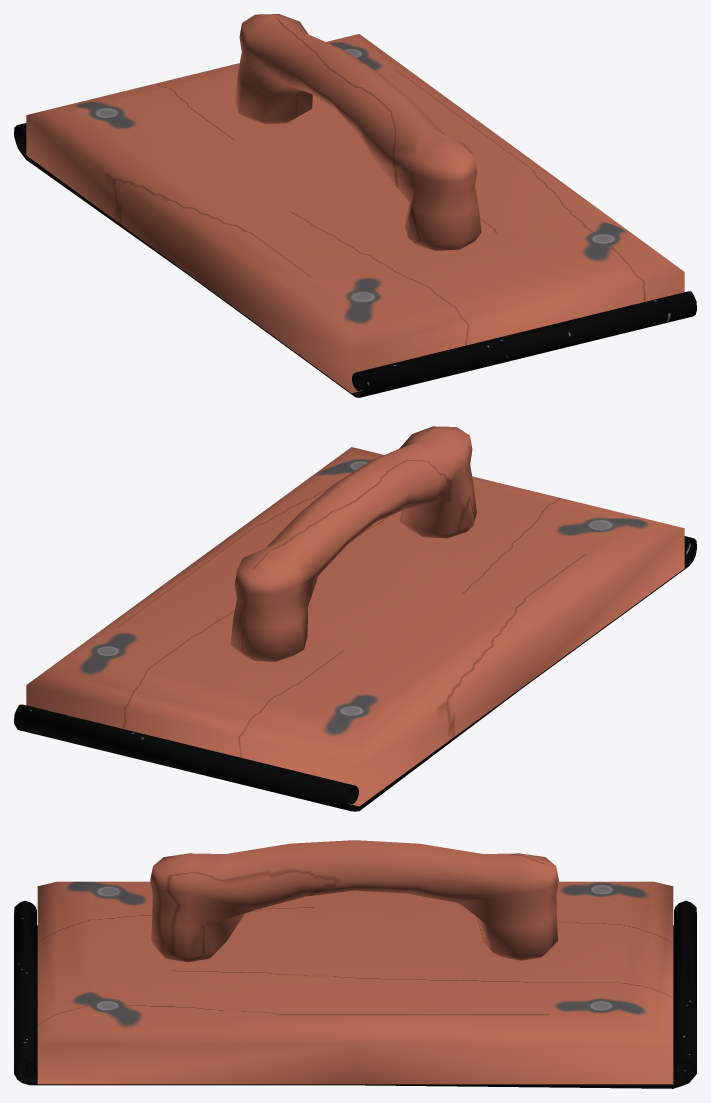
The model's file is lixa.fbx.
3 views of the same model, one above another, from view 1: azimuth 30°, elevation 25°; view 2: azimuth 150°, elevation 25°; view 3: azimuth 270°, elevation 25° (orthographic). The views are drawn at different scales.
Visible parts, largest first — view 1: Lixa, Cabo; view 2: Lixa, Cabo; view 3: Lixa, Cabo.
Boxes of the visible parts, x1,y1,x2,y2 form: Lixa: (14,34,696,397); Cabo: (235,14,481,250); Lixa: (14,447,696,811); Cabo: (230,426,476,661); Lixa: (14,881,696,1088); Cabo: (150,840,558,962).
Size of the model in its own units: 201 by 100 by 364.
1 material, 1 textured.
